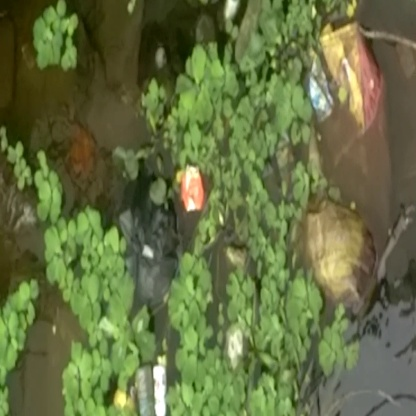plastic-bag: (318, 27, 387, 159)
